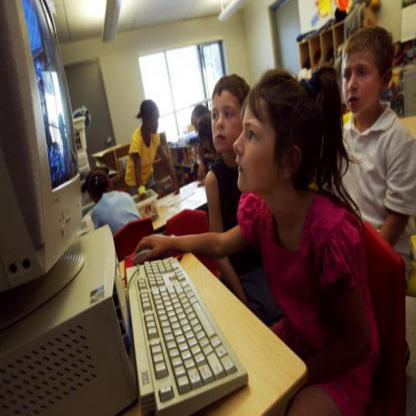face: (234, 101, 280, 191), (343, 54, 381, 117), (213, 95, 243, 152), (151, 112, 161, 134)
